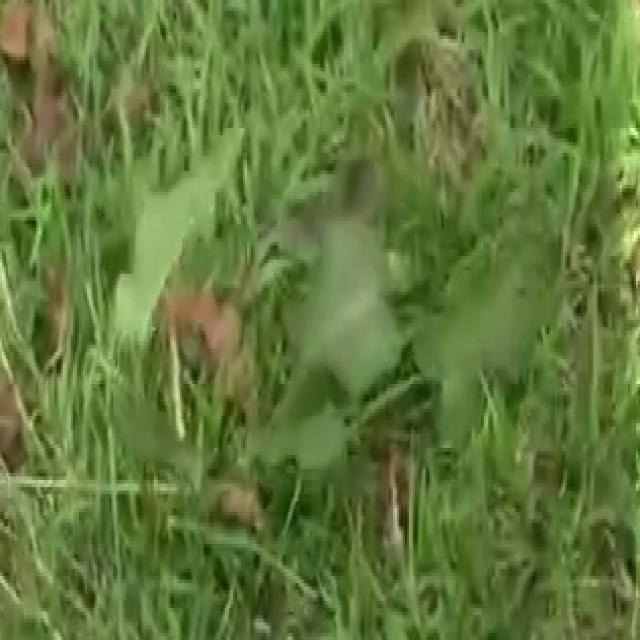organic waste: (101, 103, 569, 551)
